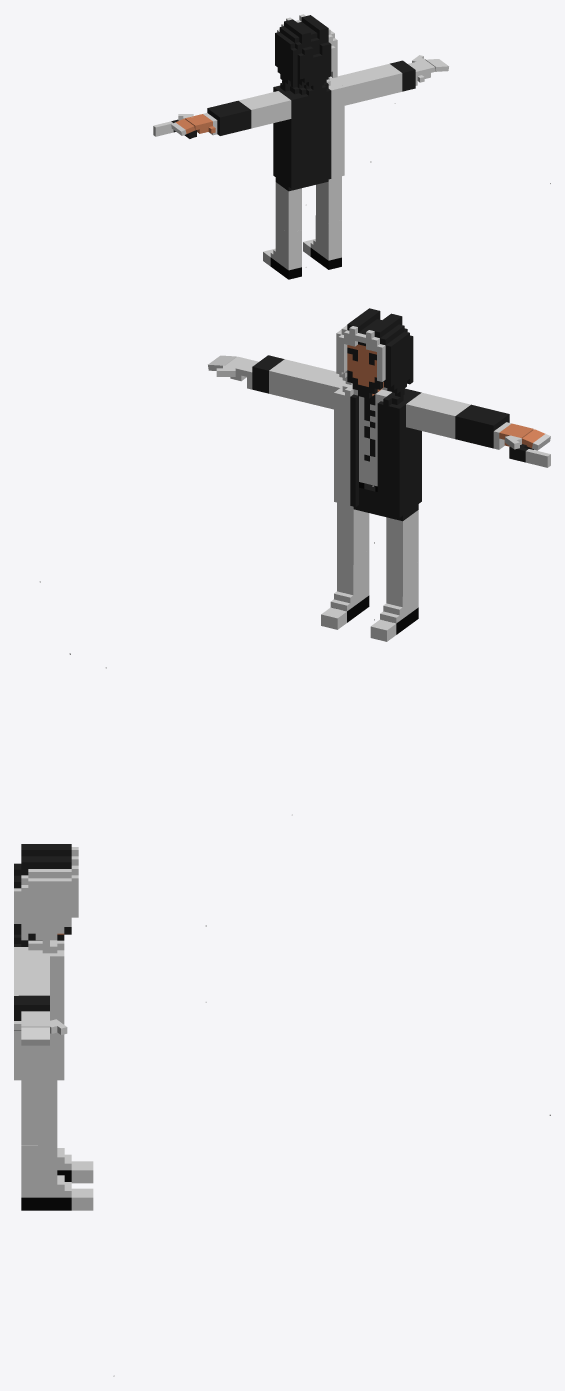
The model's file is Audience 1.fbx.
3 renders of one model, top to bottom at view 1: azimuth 30°, elevation 25°; view 2: azimuth 150°, elevation 25°; view 3: azimuth 270°, elevation 25°, orthographic. The views are drawn at different scales.
Parts seen in each view (by area): view 1: Chunk__2_2_2__2, Chunk__2_2_2__13, Chunk__2_1_2_, Chunk__2_1_2__1, Chunk__2_3_2__13, Chunk__1_2_2__3, Chunk__3_2_2__9, Chunk__1_0_2__19, Chunk__2_0_2__15, Chunk__2_2_2__8, Chunk__2_0_2__14, Chunk__1_0_2__18 (+8 smaller); view 2: Chunk__2_2_2__2, Chunk__2_1_2_, Chunk__2_2_2__13, Chunk__2_1_2__1, Chunk__3_2_2__9, Chunk__2_3_2__13, Chunk__1_2_2__3, Chunk__1_0_2__19, Chunk__2_0_2__15, Chunk__2_2_2__8, Chunk__2_0_2__14, Chunk__1_0_2__18 (+6 smaller); view 3: Chunk__1_2_2__13, Chunk__1_0_2__19, Chunk__1_1_2_, Chunk__2_3_2__13, Chunk__1_0_2__18, Chunk__1_2_2__2, Chunk__1_3_2__13, Chunk__1_2_2__3, Chunk__1_1_2__18, Chunk__0_2_2__4, Chunk__1_0_2__20.
Part boxes in pixels (bbox=[...]): Chunk__2_2_2__2: bbox=[273, 80, 331, 132]; Chunk__2_2_2__13: bbox=[275, 42, 331, 89]; Chunk__2_1_2_: bbox=[273, 148, 331, 191]; Chunk__2_1_2__1: bbox=[273, 122, 331, 160]; Chunk__2_3_2__13: bbox=[275, 15, 331, 55]; Chunk__1_2_2__3: bbox=[332, 68, 384, 105]; Chunk__3_2_2__9: bbox=[203, 100, 251, 135]; Chunk__1_0_2__19: bbox=[310, 214, 341, 260]; Chunk__2_0_2__15: bbox=[270, 224, 301, 270]; Chunk__2_2_2__8: bbox=[247, 91, 291, 126]; Chunk__2_0_2__14: bbox=[275, 196, 301, 233]; Chunk__1_0_2__18: bbox=[316, 186, 341, 223]; Chunk__2_2_2__2: bbox=[350, 388, 421, 448]; Chunk__2_1_2_: bbox=[350, 467, 421, 521]; Chunk__2_2_2__13: bbox=[347, 342, 413, 400]; Chunk__2_1_2__1: bbox=[350, 433, 421, 483]; Chunk__3_2_2__9: bbox=[455, 404, 511, 449]; Chunk__2_3_2__13: bbox=[347, 308, 413, 357]; Chunk__1_2_2__3: bbox=[291, 364, 345, 409]; Chunk__1_0_2__19: bbox=[330, 549, 369, 611]; Chunk__2_0_2__15: bbox=[380, 561, 418, 623]; Chunk__2_2_2__8: bbox=[406, 392, 459, 436]; Chunk__2_0_2__14: bbox=[386, 527, 418, 572]; Chunk__1_0_2__18: bbox=[337, 515, 369, 560]; Chunk__1_2_2__13: bbox=[14, 888, 71, 946]; Chunk__1_0_2__19: bbox=[21, 1145, 71, 1197]; Chunk__1_1_2_: bbox=[14, 1041, 64, 1086]; Chunk__2_3_2__13: bbox=[14, 844, 71, 888]; Chunk__1_0_2__18: bbox=[21, 1106, 57, 1145]; Chunk__1_2_2__2: bbox=[14, 940, 64, 1001]; Chunk__1_3_2__13: bbox=[21, 869, 71, 894]; Chunk__1_2_2__3: bbox=[14, 956, 49, 983]; Chunk__1_1_2__18: bbox=[21, 1086, 57, 1106]; Chunk__0_2_2__4: bbox=[14, 995, 49, 1030]; Chunk__1_0_2__20: bbox=[21, 1197, 71, 1210].
Size of the model in its own units: 934 by 530 by 746.
